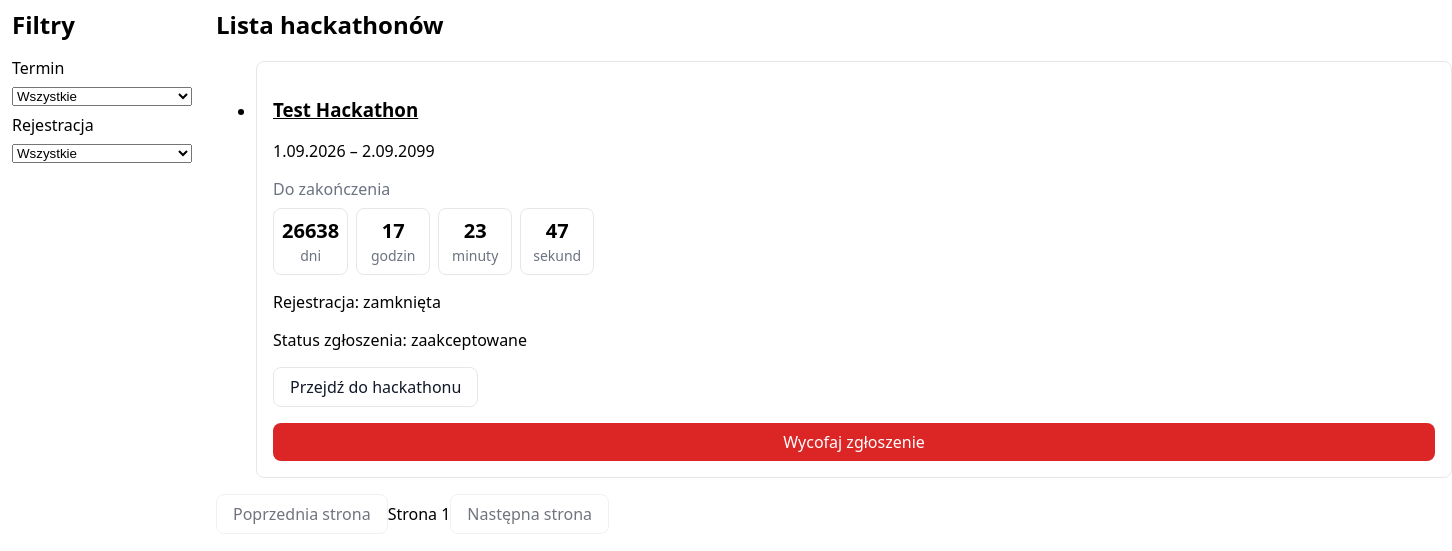
Test: HackathonList › withdraws an upcoming hackathon from its home-page card
The width and height of the screenshot is (1452, 551).
Click the button "Wycofaj zgłoszenie".
click(854, 442)  # box [273,423,1435,461]
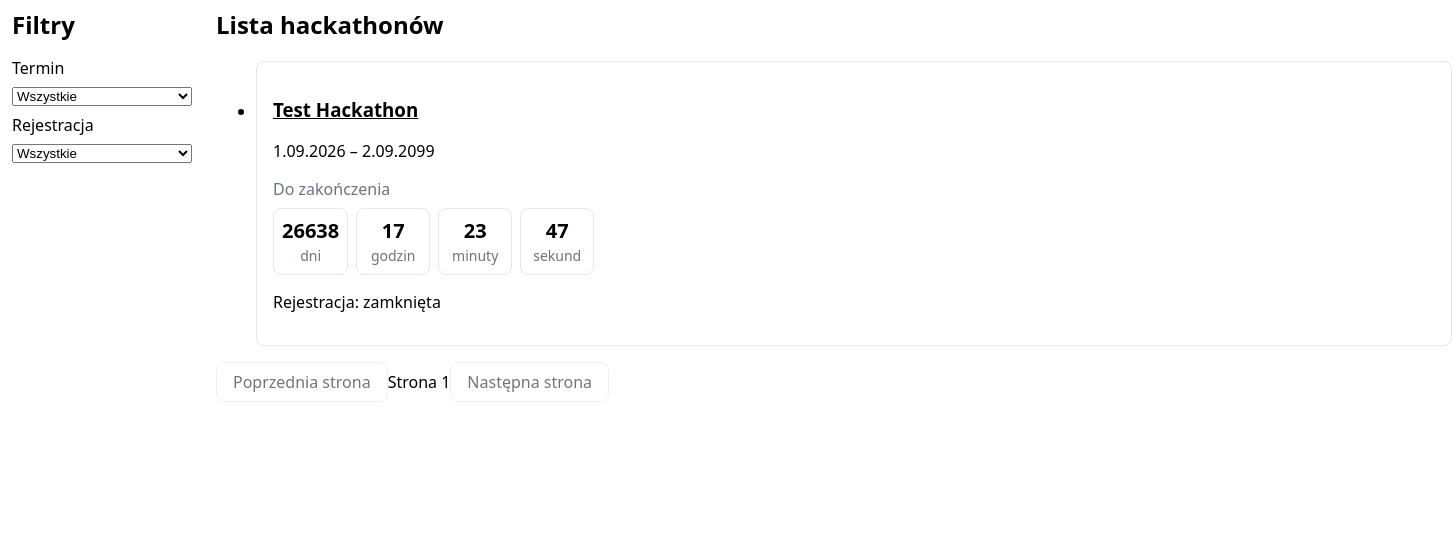
Check: the button "Wycofaj zgłoszenie" is gone
